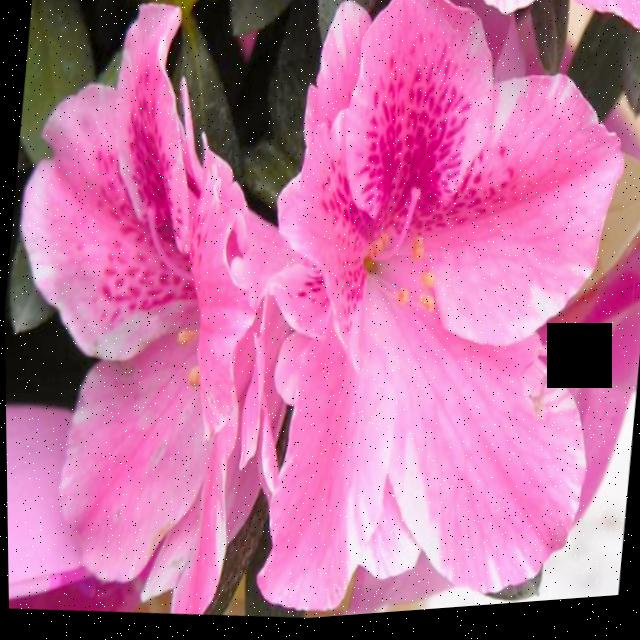azalea: (230, 0, 637, 627), (0, 11, 311, 633)
